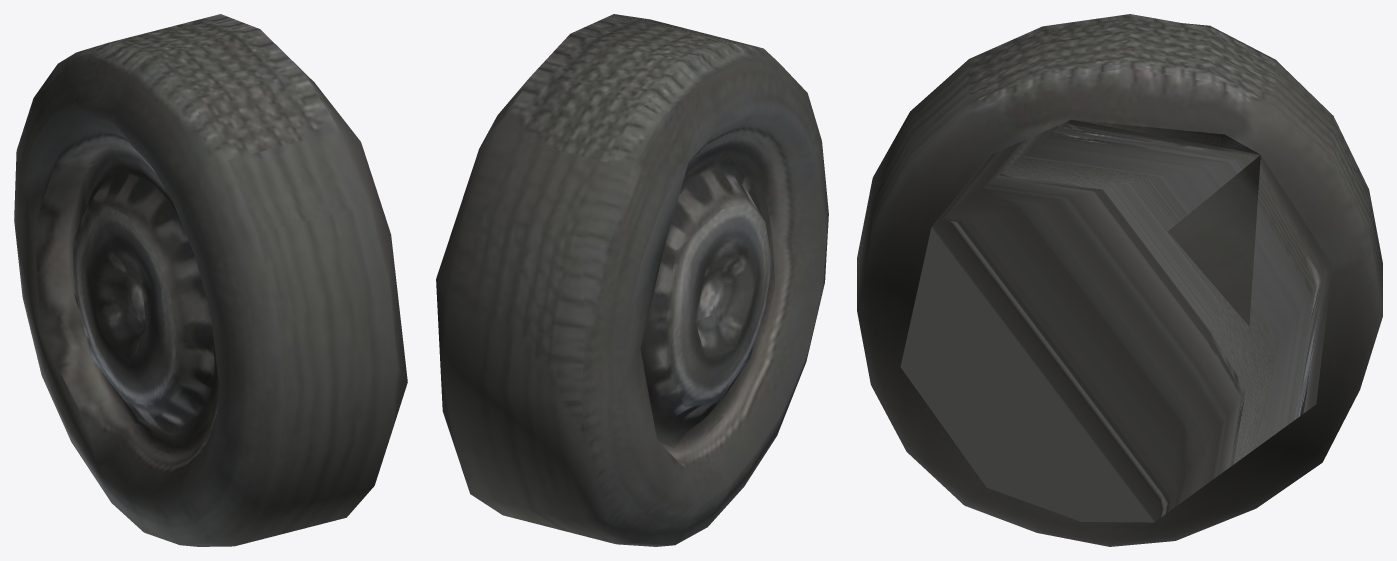
Rendered from golf_wheel.glb.
3 renders of one model, left to right at view 1: azimuth 30°, elevation 25°; view 2: azimuth 150°, elevation 25°; view 3: azimuth 270°, elevation 25°, orthographic.
Visible parts, largest first — view 1: tripo_part_1; view 2: tripo_part_1; view 3: tripo_part_1.
Boxes of the visible parts, x1,y1,x2,y2 form: tripo_part_1: [14, 14, 407, 546]; tripo_part_1: [436, 14, 828, 546]; tripo_part_1: [857, 14, 1382, 546].
Bounding box in the file's own units: 0.0591 × 0.1412 × 0.1409.
Materials: 1 (1 with a texture image).
